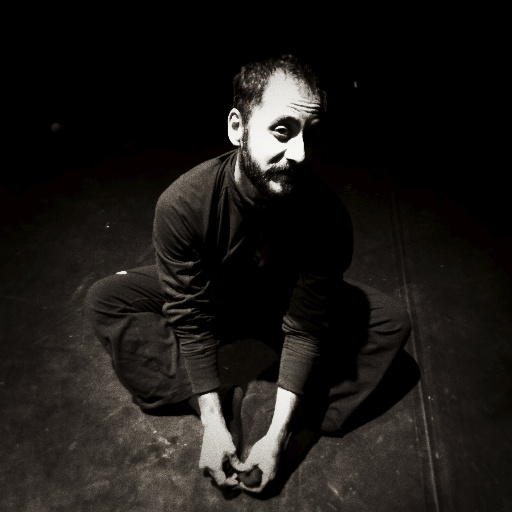hand: (199, 383, 284, 492), (237, 433, 280, 495)
